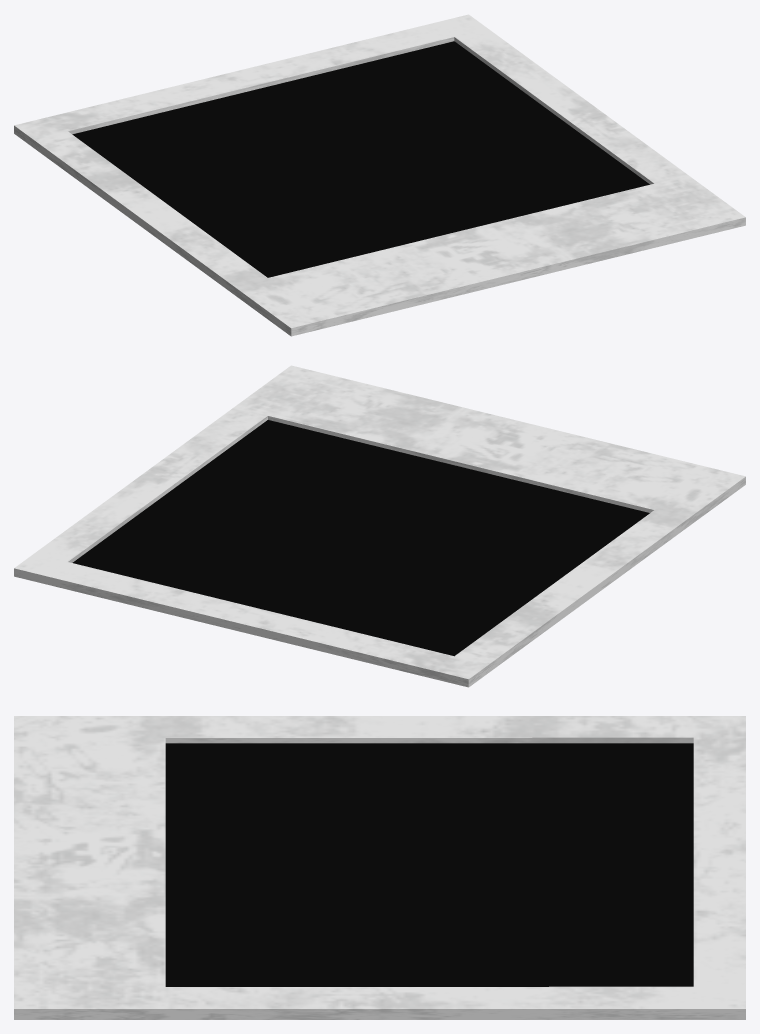
Rendered from Photoalbum_Photograph.fbx.
3 renders of one model, top to bottom at view 1: azimuth 30°, elevation 25°; view 2: azimuth 150°, elevation 25°; view 3: azimuth 270°, elevation 25°, orthographic. The views are drawn at different scales.
Parts seen in each view (by area): view 1: PhotoAlbum_Photo; view 2: PhotoAlbum_Photo; view 3: PhotoAlbum_Photo.
Part boxes in pixels (x1,y1,x2,y2): PhotoAlbum_Photo: (14, 14, 745, 336); PhotoAlbum_Photo: (14, 365, 745, 687); PhotoAlbum_Photo: (14, 716, 745, 1019).
Bounding box in the file's own units: 24.4 × 0.4347 × 25.75.
